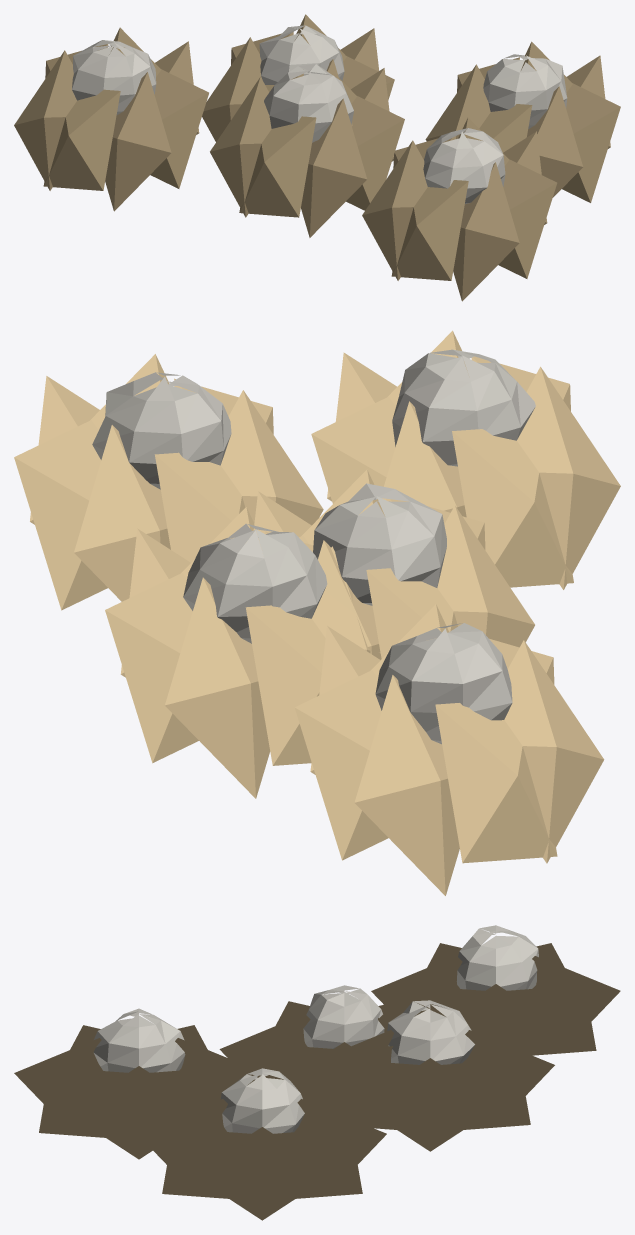
Rendered from temperate-forest-ecology-earthstar-group-8077d1cb__3868.glb.
The picture shows the model from 3 angles, top to bottom: view 1: azimuth 30°, elevation 25°; view 2: azimuth 150°, elevation 25°; view 3: azimuth 270°, elevation 25°; orthographic projection. The views are drawn at different scales.
Parts seen in each view (by area): view 1: earthstar-group; view 2: earthstar-group; view 3: earthstar-group.
Part boxes in pixels (x1,y1,x2,y2): earthstar-group: (14, 14, 620, 301); earthstar-group: (14, 330, 620, 895); earthstar-group: (14, 925, 620, 1220).
Size of the model in its own units: 0.266 by 0.08 by 0.3218.
